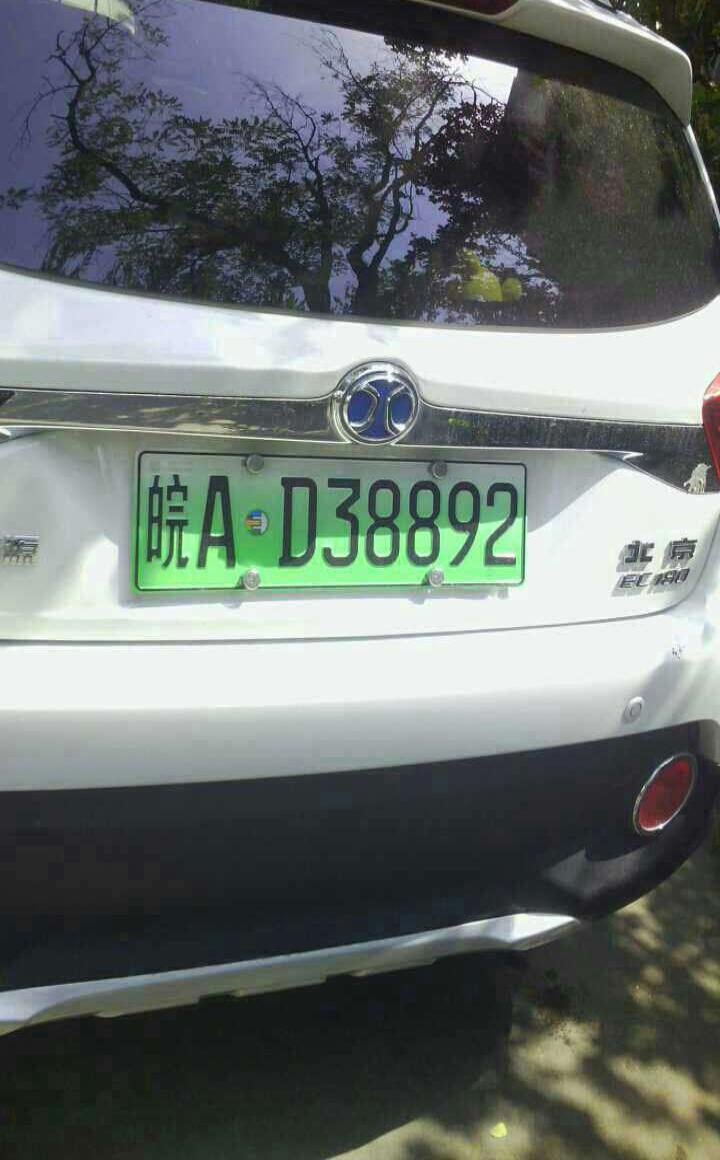car: (129, 450, 536, 591)
